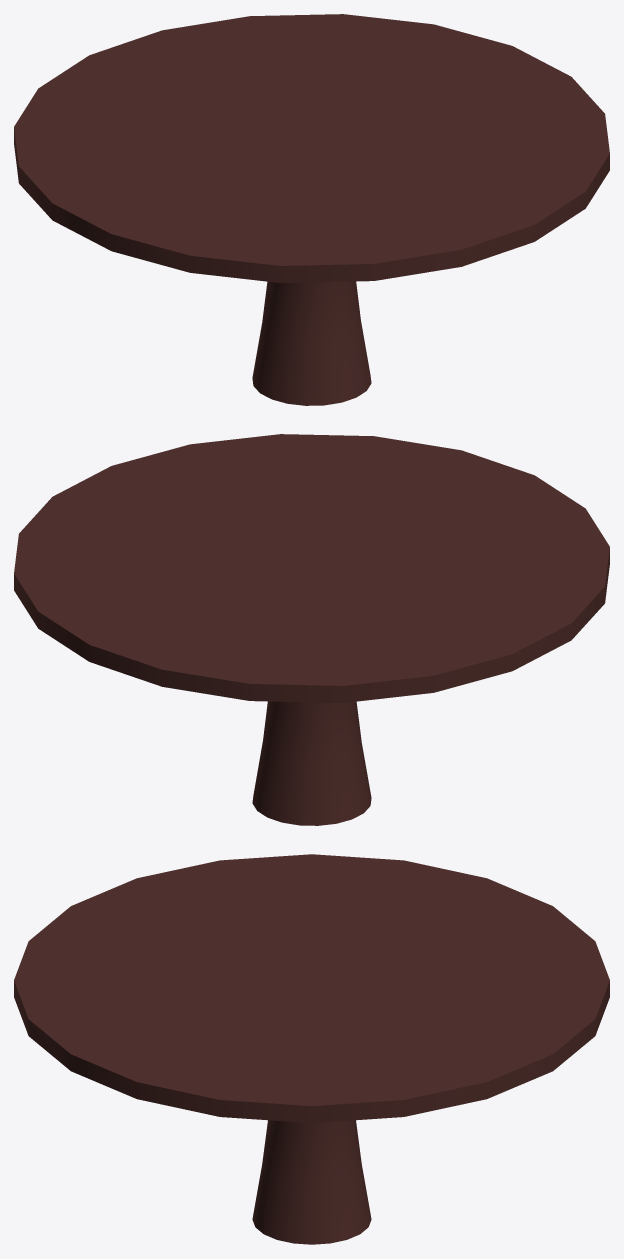
File: Mesa.obj
3 renders of one model, top to bottom at view 1: azimuth 30°, elevation 25°; view 2: azimuth 150°, elevation 25°; view 3: azimuth 270°, elevation 25°, orthographic.
Parts seen in each view (by area): view 1: Base_mesa:pCylinder9; view 2: Base_mesa:pCylinder9; view 3: Base_mesa:pCylinder9.
Boxes of the visible parts, x1,y1,x2,y2 form: Base_mesa:pCylinder9: (14, 14, 609, 405); Base_mesa:pCylinder9: (14, 434, 609, 825); Base_mesa:pCylinder9: (14, 854, 609, 1244).
Bounding box in the file's own units: 2.23 × 0.9888 × 2.23.
1 material, 1 textured.
